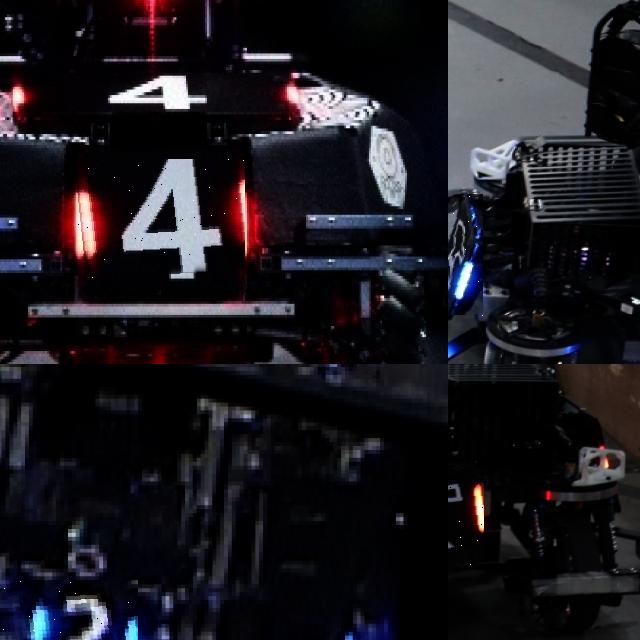B2: (1, 580, 138, 640)
Bs: (448, 194, 482, 316)
R4: (74, 159, 245, 279)
Rs: (448, 468, 483, 565)
